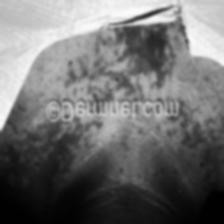Unclassified: (134, 40, 168, 78), (196, 151, 208, 184)
